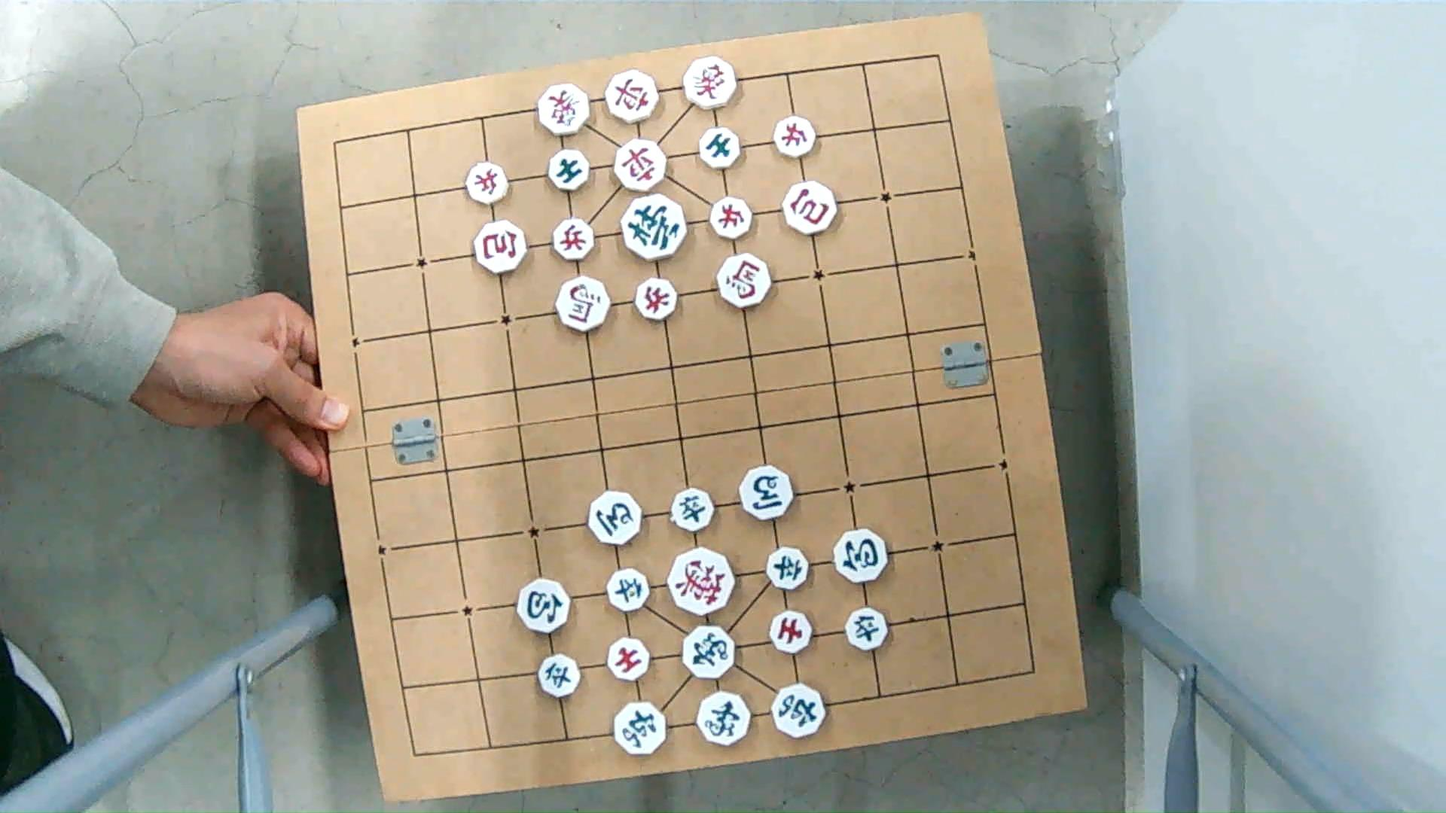cha_green: (770, 684, 829, 741), (615, 704, 670, 754)
cha_red: (606, 74, 663, 123), (613, 144, 668, 192)
jol_green: (539, 654, 583, 697), (668, 489, 714, 529), (608, 568, 651, 610), (767, 548, 812, 588), (846, 611, 890, 650)
jol_red: (634, 279, 679, 319), (709, 200, 755, 239), (553, 220, 595, 260), (775, 119, 818, 158), (468, 165, 511, 203)
ma_green: (737, 465, 795, 519), (587, 494, 645, 547)
ma_red: (556, 277, 609, 332), (718, 257, 772, 307)
po_green: (831, 527, 889, 582), (519, 580, 573, 632)
po_red: (783, 187, 837, 236), (475, 224, 529, 271)
sa_green: (698, 129, 741, 169), (548, 153, 591, 191)
sa_red: (769, 611, 813, 654), (609, 641, 653, 681)
sang_green: (697, 694, 753, 746), (680, 627, 736, 678)
sang_red: (535, 85, 593, 136), (683, 61, 739, 109)
wang_green: (622, 196, 688, 258)
wang_red: (668, 553, 737, 614)
